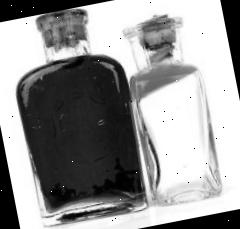glass: (1, 0, 224, 229)
